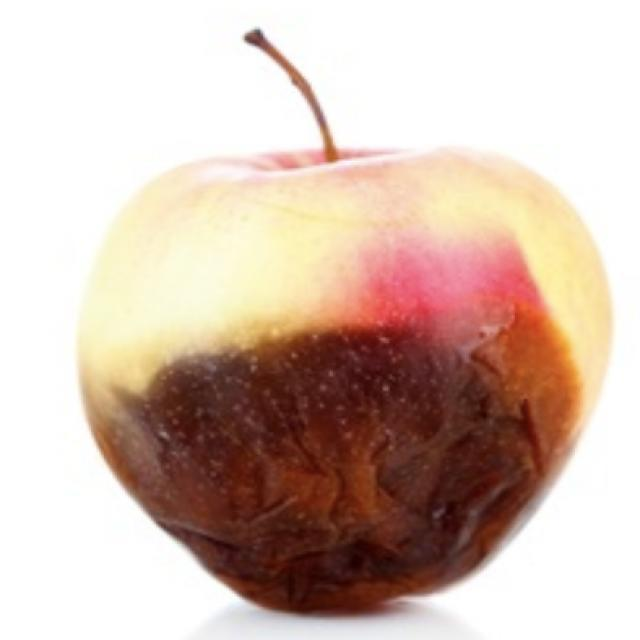Rotten: (89, 148, 598, 584)
